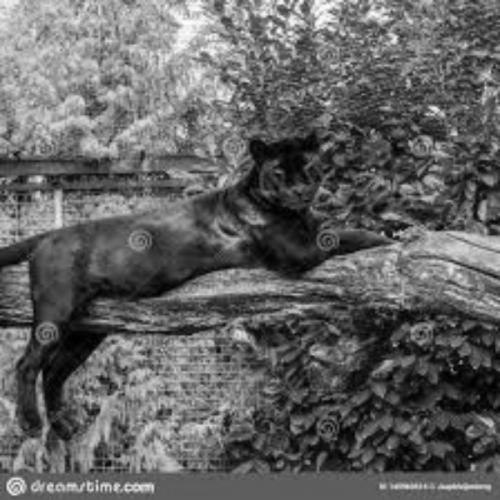panther-endangered: (0, 131, 396, 437)
